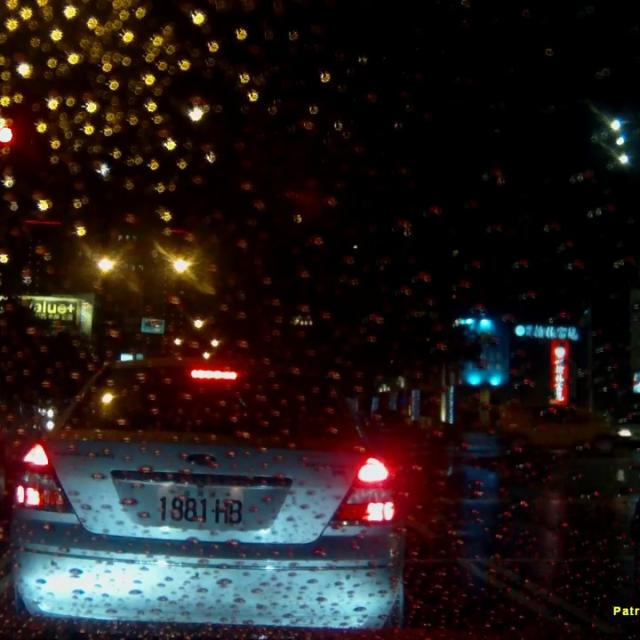Car: (4, 355, 396, 629), (492, 397, 630, 458)
